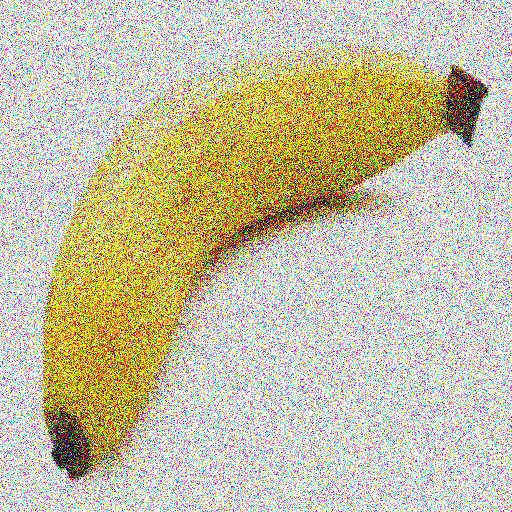fruit: (17, 198, 71, 512)
